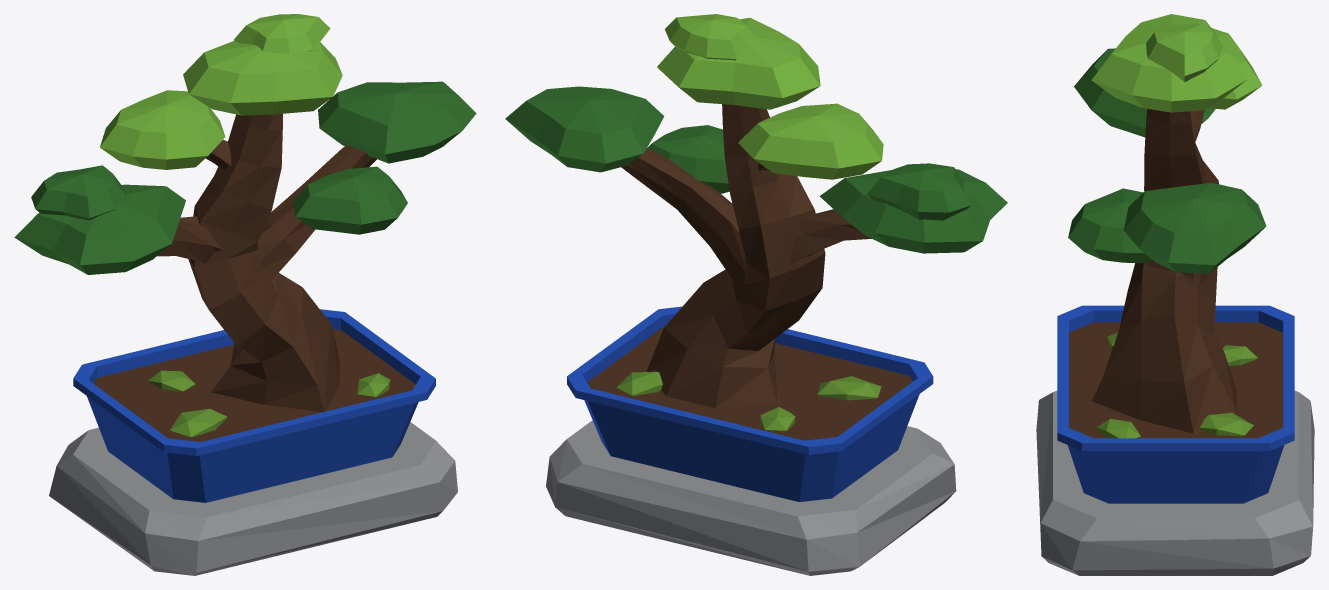
The model's file is bonsai.glb.
3 views of the same model, side by side, from view 1: azimuth 30°, elevation 25°; view 2: azimuth 150°, elevation 25°; view 3: azimuth 270°, elevation 25° (orthographic). The views are drawn at different scales.
Visible parts, largest first — view 1: Trunk, Stand, Foliage, Pot, FoliageLight, Moss; view 2: Trunk, Stand, Pot, Foliage, FoliageLight, Moss; view 3: Trunk, Stand, Pot, Foliage, FoliageLight, Moss.
Boxes of the visible parts, left/top/right/bottom form: Trunk: left=93, top=113, right=415, bottom=441; Stand: left=49, top=422, right=457, bottom=575; Foliage: left=14, top=81, right=476, bottom=274; Pot: left=73, top=309, right=435, bottom=502; FoliageLight: left=100, top=14, right=342, bottom=169; Moss: left=148, top=370, right=390, bottom=437; Trunk: left=587, top=104, right=912, bottom=440; Stand: left=546, top=420, right=956, bottom=575; Pot: left=567, top=306, right=933, bottom=501; Foliage: left=505, top=86, right=1007, bottom=253; FoliageLight: left=657, top=14, right=883, bottom=179; Moss: left=616, top=371, right=881, bottom=431; Trunk: left=1069, top=109, right=1283, bottom=438; Stand: left=1036, top=390, right=1314, bottom=575; Pot: left=1057, top=305, right=1294, bottom=503; Foliage: left=1068, top=48, right=1266, bottom=273; FoliageLight: left=1091, top=14, right=1262, bottom=112; Moss: left=1097, top=332, right=1257, bottom=438.
Size of the model in its own units: 6.24 by 6.12 by 3.17.
